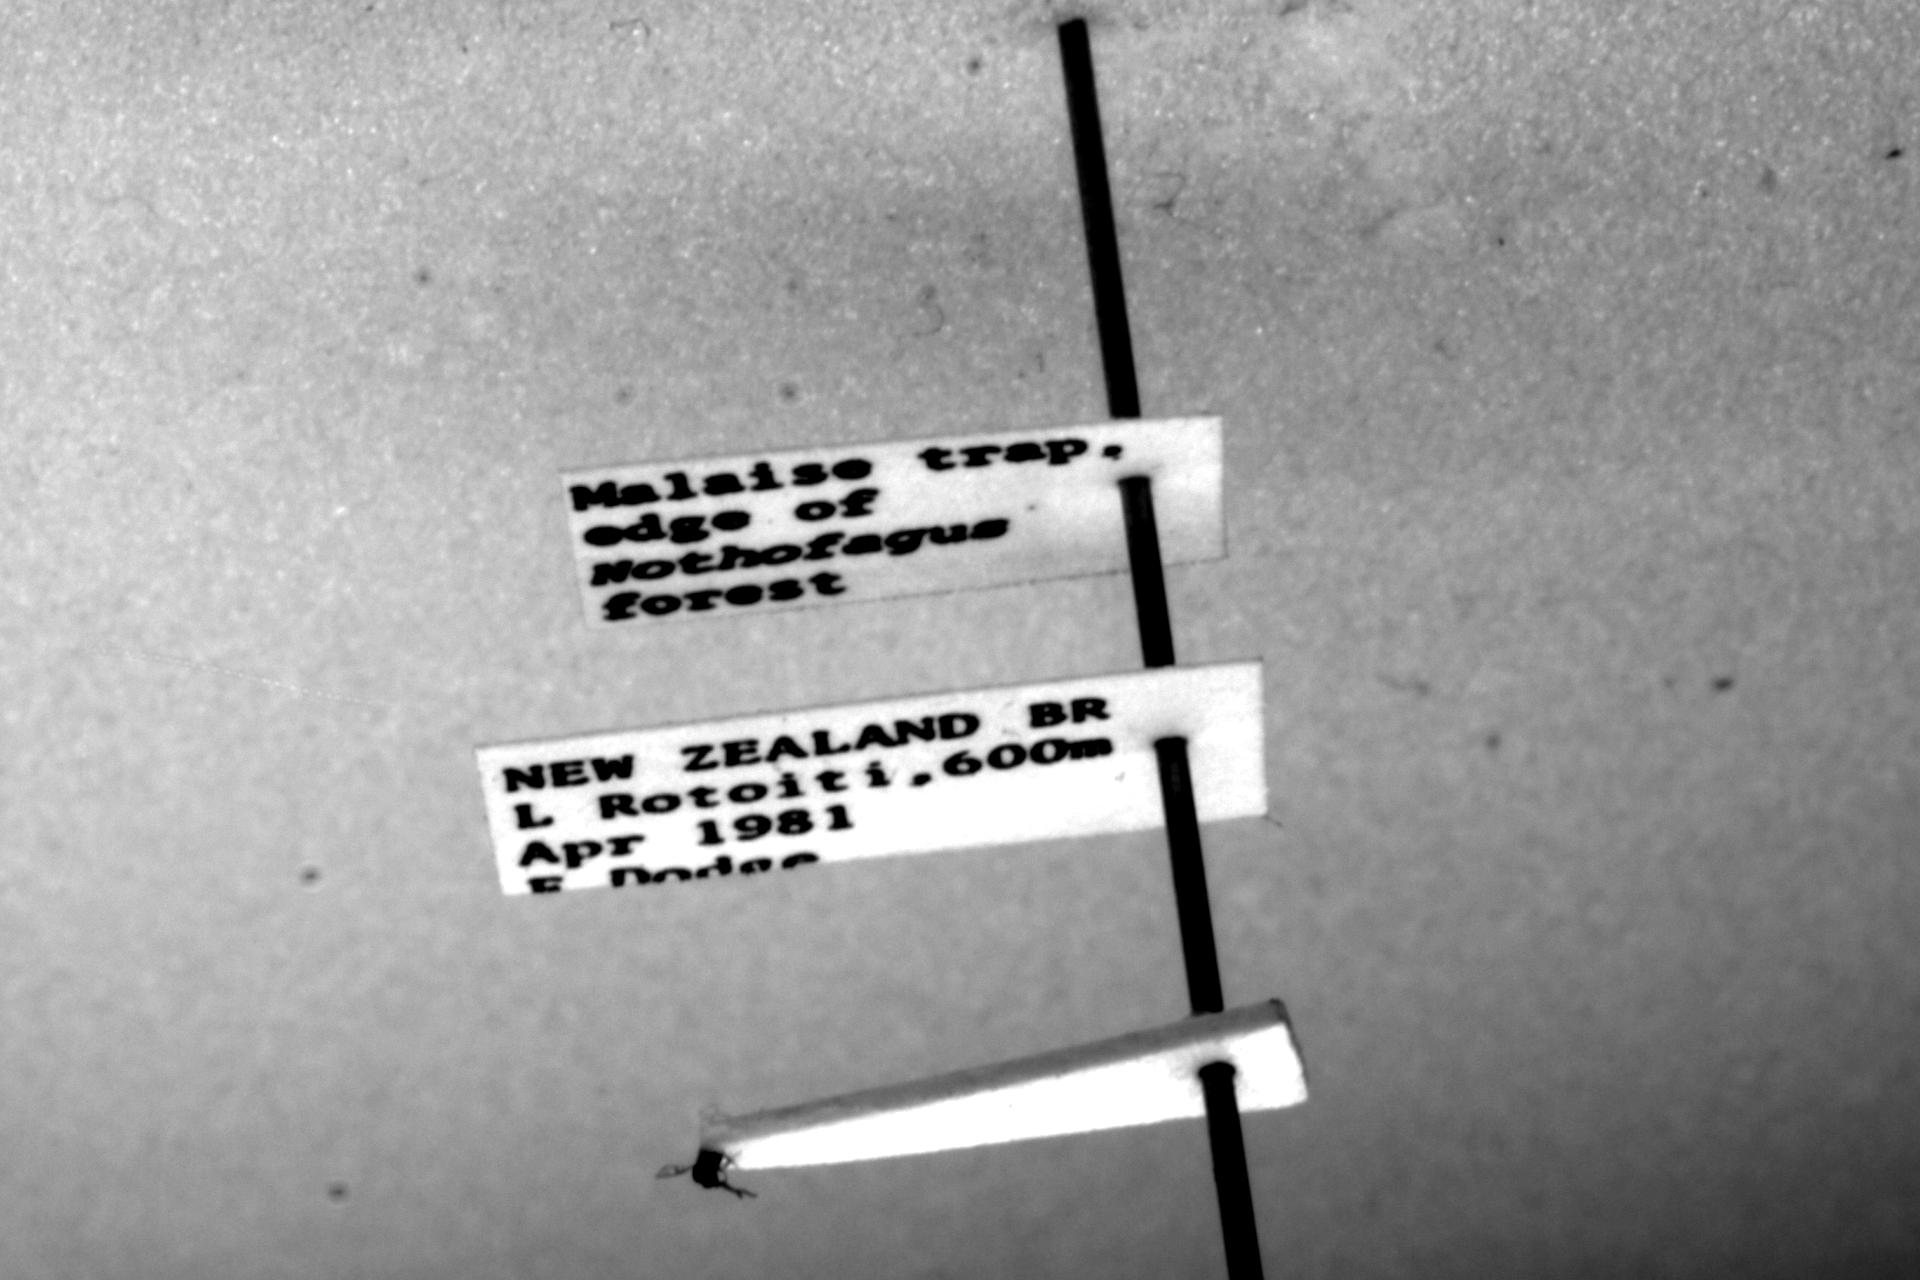typed_label: (476, 664, 1267, 896), (563, 416, 1226, 626)
